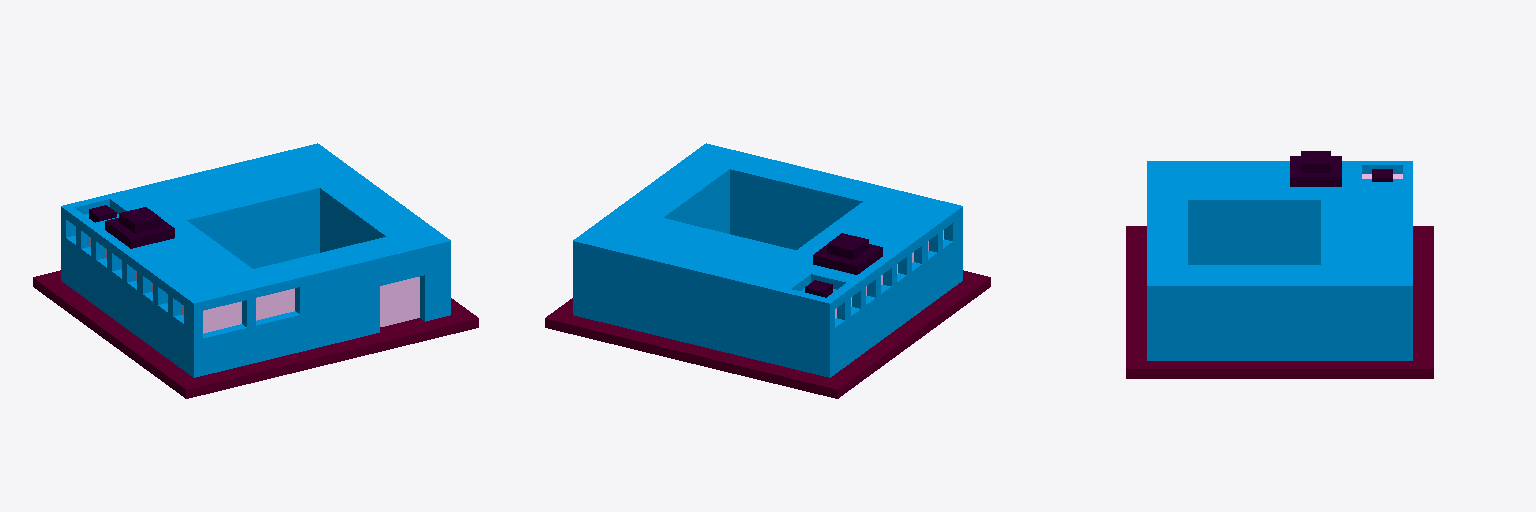
The picture shows the model from 3 angles: view 1: azimuth 30°, elevation 25°; view 2: azimuth 150°, elevation 25°; view 3: azimuth 270°, elevation 25°; orthographic projection.
Parts seen in each view (by area): view 1: object 1; view 2: object 1; view 3: object 1.
Boxes of the visible parts, x1,y1,x2,y2 form: object 1: [33, 143, 478, 398]; object 1: [545, 143, 990, 398]; object 1: [1126, 151, 1433, 378].
Bounding box in the file's own units: 3.3 × 1.1 × 3.
Materials: 1 (1 with a texture image).